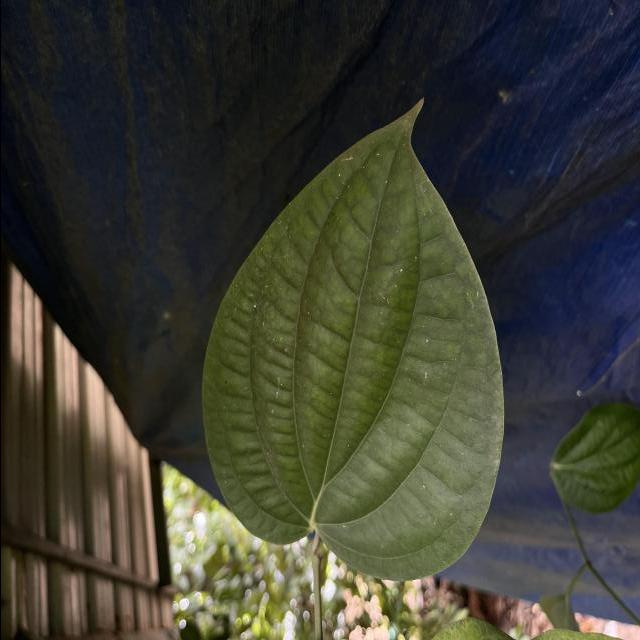Piper nigrum: (198, 91, 506, 582)
